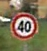limite 40: (10, 11, 38, 41)
